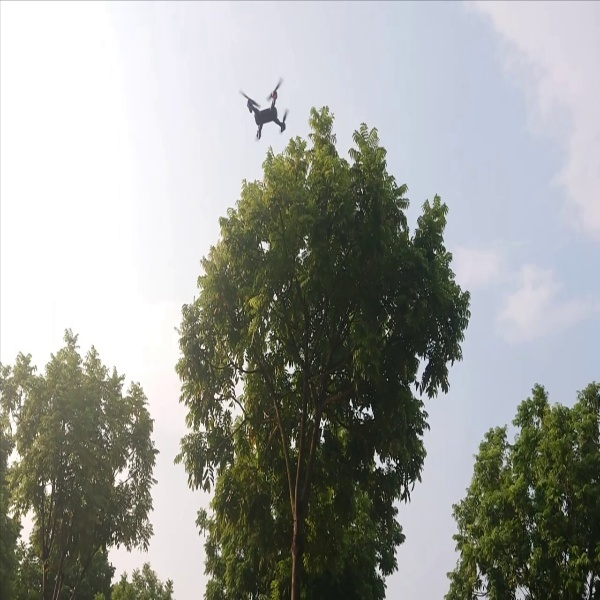drone: (236, 78, 292, 143)
